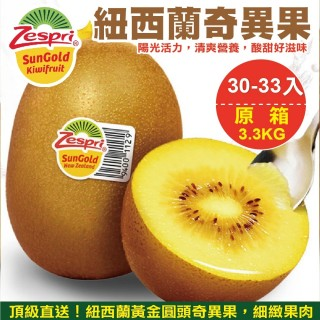kiwi: (6, 38, 184, 281), (120, 137, 309, 308)
